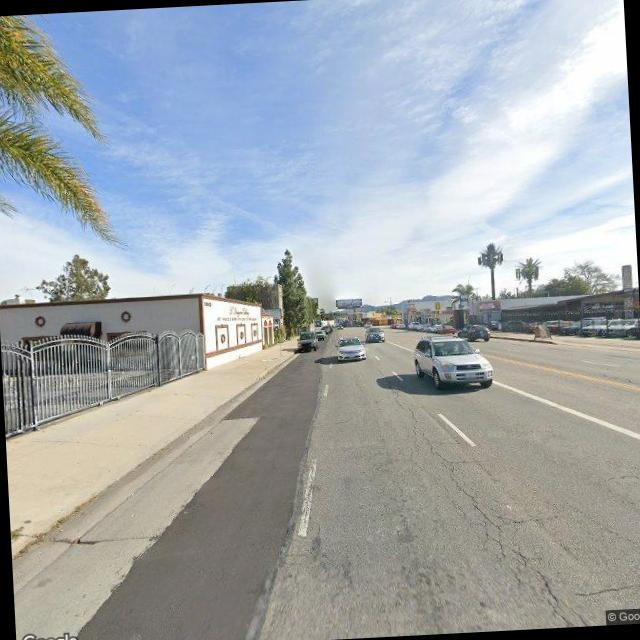crack: (392, 405, 602, 633), (572, 572, 640, 603)
